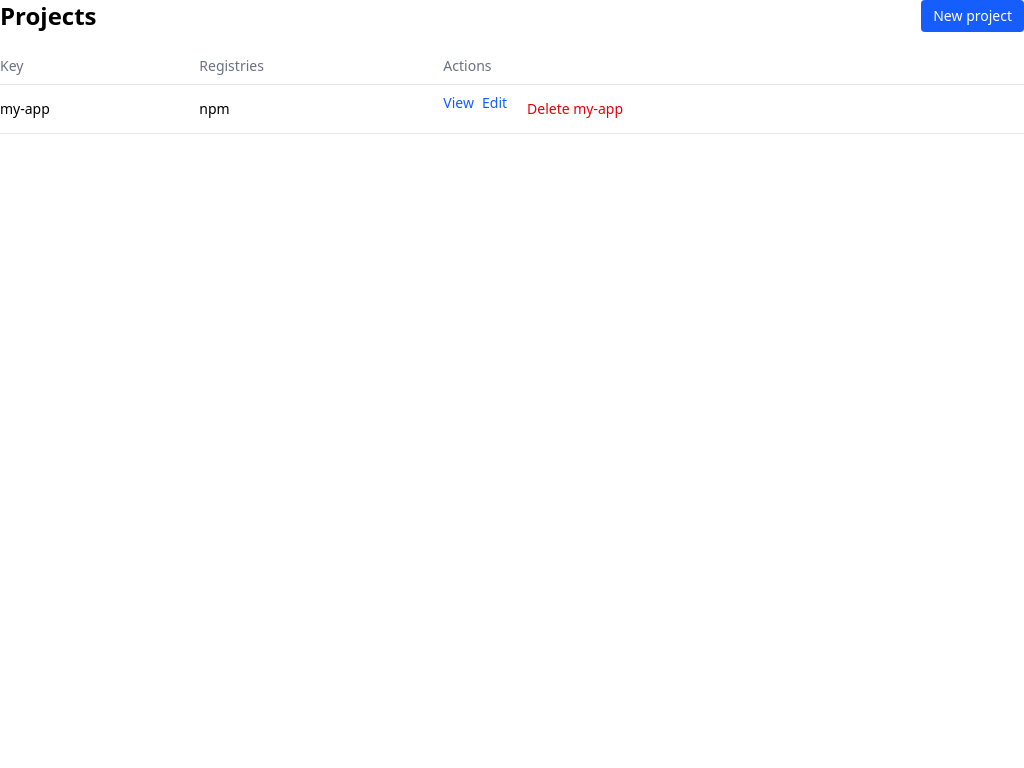
ProjectsListPage › shows an invalid-key error on a 400
Expected: the row with test id "project-row-my-app" is shown, [0,84,1023,134]
Click the button with test id "project-delete-my-app": [575, 109] box [515,93,635,125]
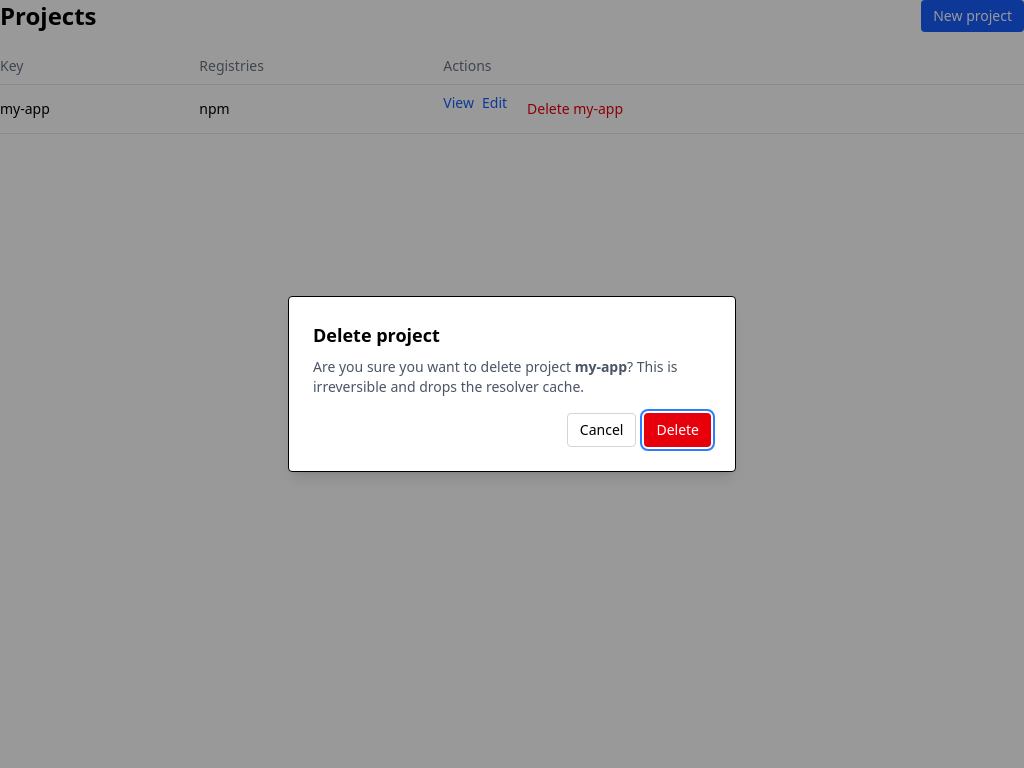
Click the button "Delete": [678, 430] box [644,413,711,447]
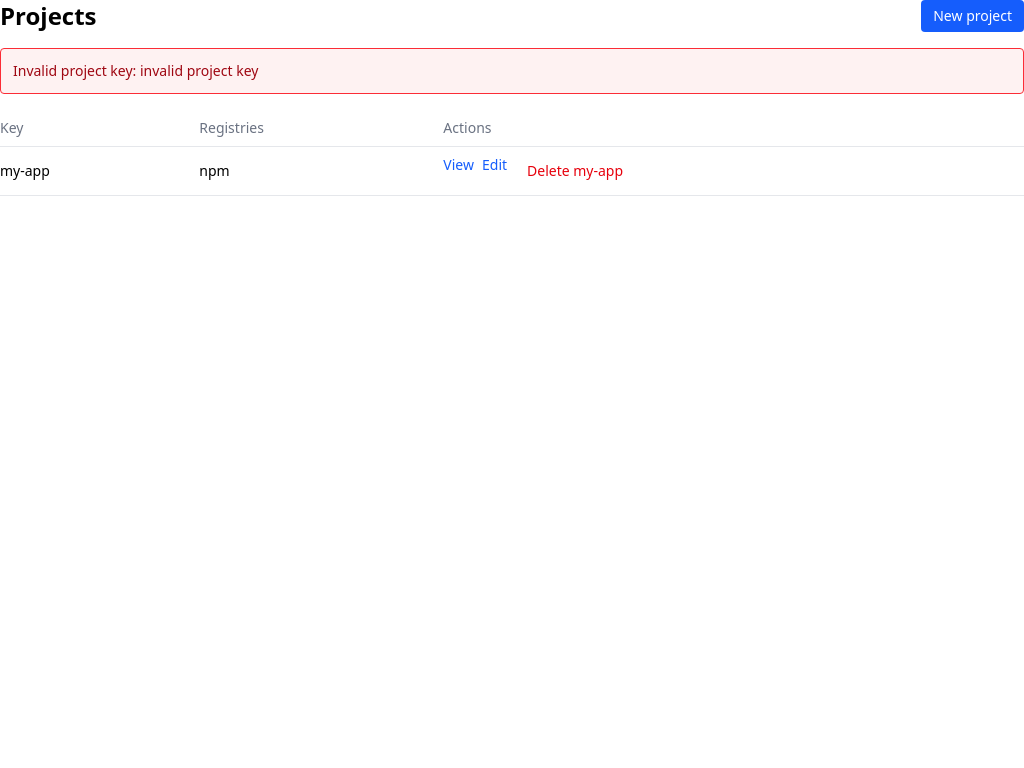
Result: the message with test id "delete-error" shows "Invalid project key" at [13,61,258,80]
